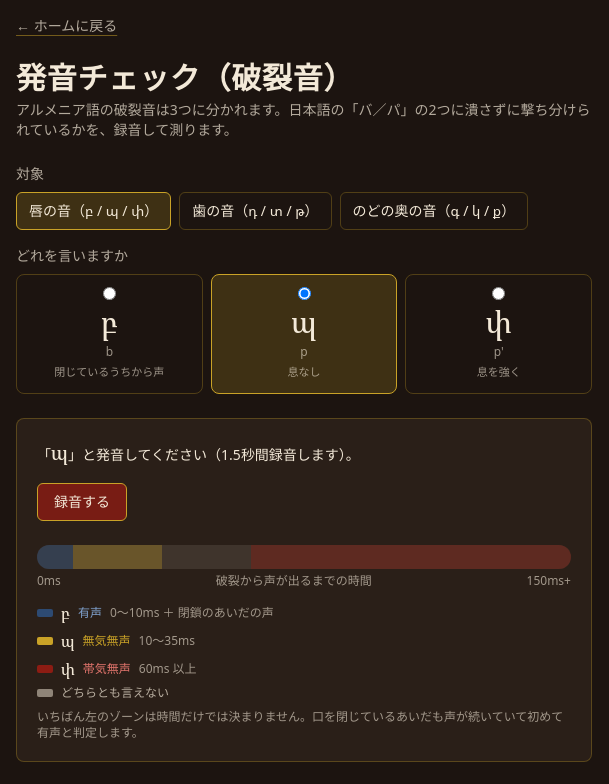
VotPractice › マイク権限が拒否されたらエラーメッセージを表示し、アプリは壊れない
Step 1. Click the button "録音する" → (82, 502), box [37,482,127,520]
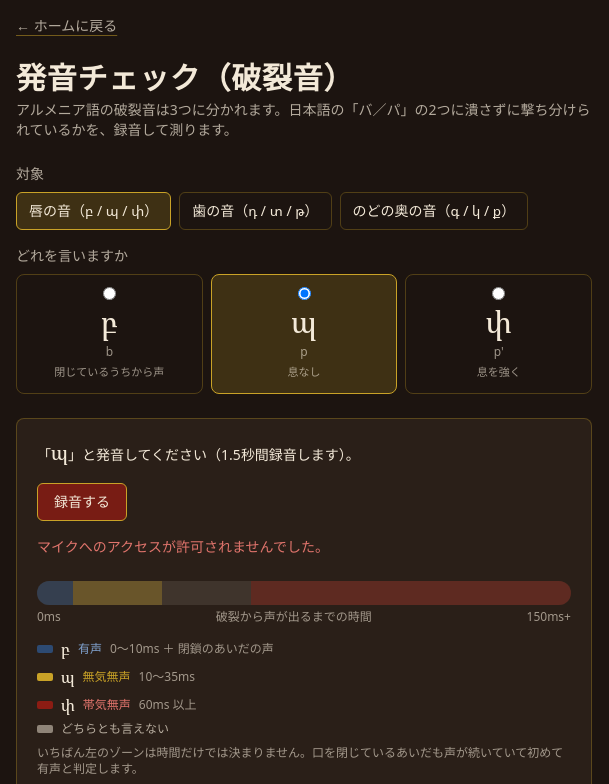
Expected: the button "← ホームに戻る" is shown, [16,16,117,36]
Now the text "マイクへのアクセスが許可されませんでした。" is shown, box [37,536,329,556]
